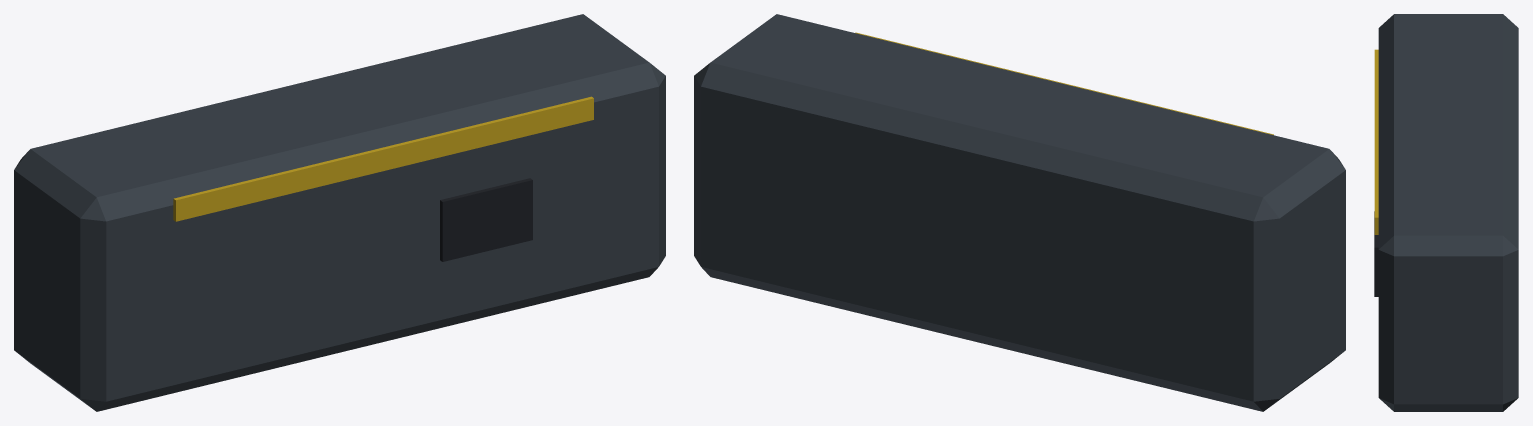
File: bk24_launch_ctl.obj
3 views of the same model, side by side, from view 1: azimuth 30°, elevation 25°; view 2: azimuth 150°, elevation 25°; view 3: azimuth 270°, elevation 25° (orthographic). The views are drawn at different scales.
Parts seen in each view (by area): view 1: bk24_launch_ctl; view 2: bk24_launch_ctl; view 3: bk24_launch_ctl.
Part boxes in pixels (box(x1,y1,x2,y2)): bk24_launch_ctl: box(14, 14, 665, 411); bk24_launch_ctl: box(694, 14, 1345, 411); bk24_launch_ctl: box(1374, 14, 1518, 411).
Size of the model in its own units: 1.43 by 0.5 by 0.371.
